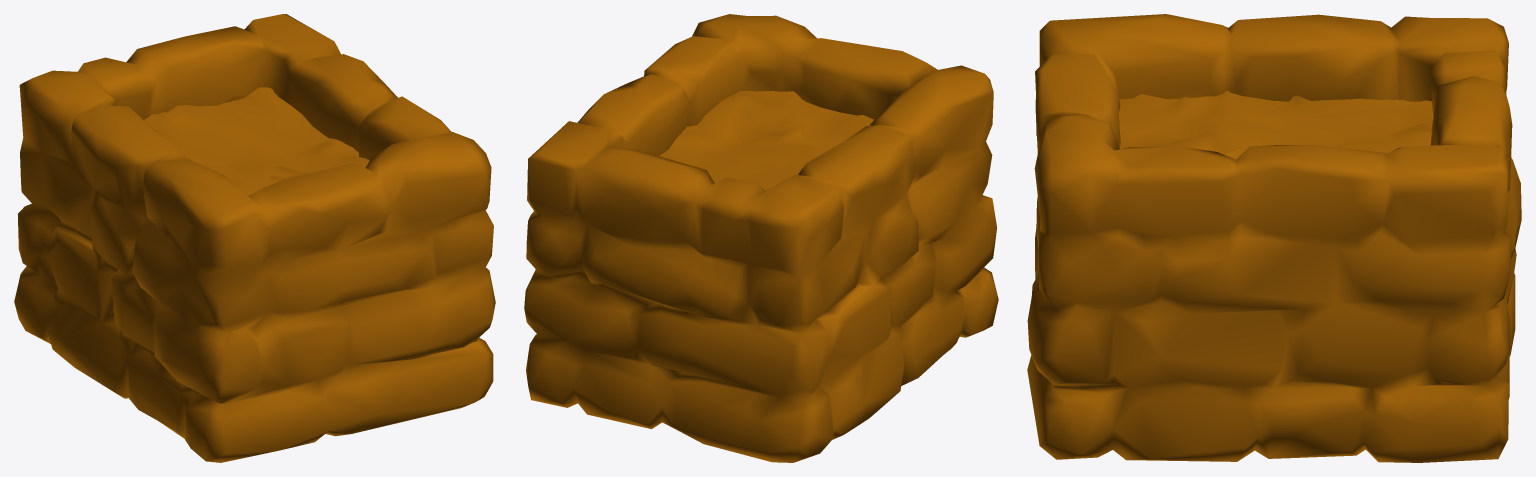
Rendered from Mod_forgeFurnace_LODs.fbx.
3 renders of one model, left to right at view 1: azimuth 30°, elevation 25°; view 2: azimuth 150°, elevation 25°; view 3: azimuth 270°, elevation 25°, orthographic. The views are drawn at different scales.
Parts seen in each view (by area): view 1: forgeFurnace_LOD0; view 2: forgeFurnace_LOD0; view 3: forgeFurnace_LOD0.
Boxes of the visible parts, <box> form: forgeFurnace_LOD0: <box>14,14,495,462</box>; forgeFurnace_LOD0: <box>524,14,998,462</box>; forgeFurnace_LOD0: <box>1027,14,1521,462</box>.
Bounding box in the file's own units: 76.98 × 64.04 × 94.82.
